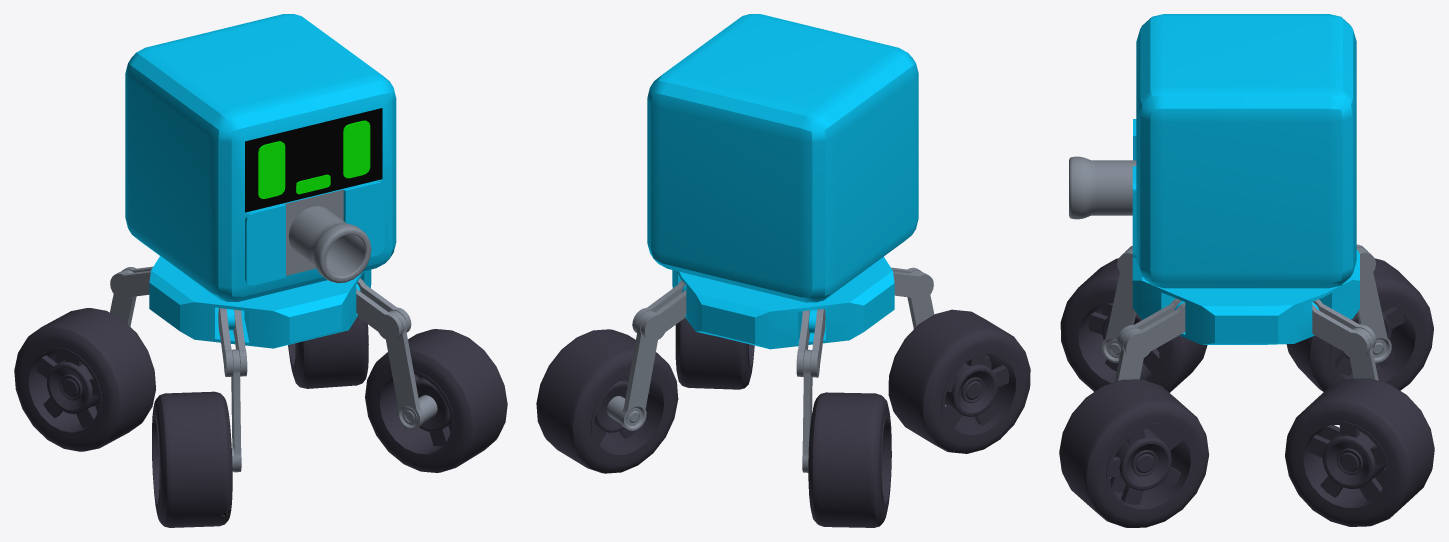
The model's file is Tank6.fbx.
3 views of the same model, side by side, from view 1: azimuth 30°, elevation 25°; view 2: azimuth 150°, elevation 25°; view 3: azimuth 270°, elevation 25° (orthographic). The views are drawn at different scales.
Parts seen in each view (by area): view 1: face6; view 2: face6; view 3: face6.
Part boxes in pixels (<box>): face6: <box>14,14,507,527</box>; face6: <box>536,14,1030,527</box>; face6: <box>1059,14,1434,527</box>.
Size of the model in its own units: 54.21 by 58.97 by 49.67.
